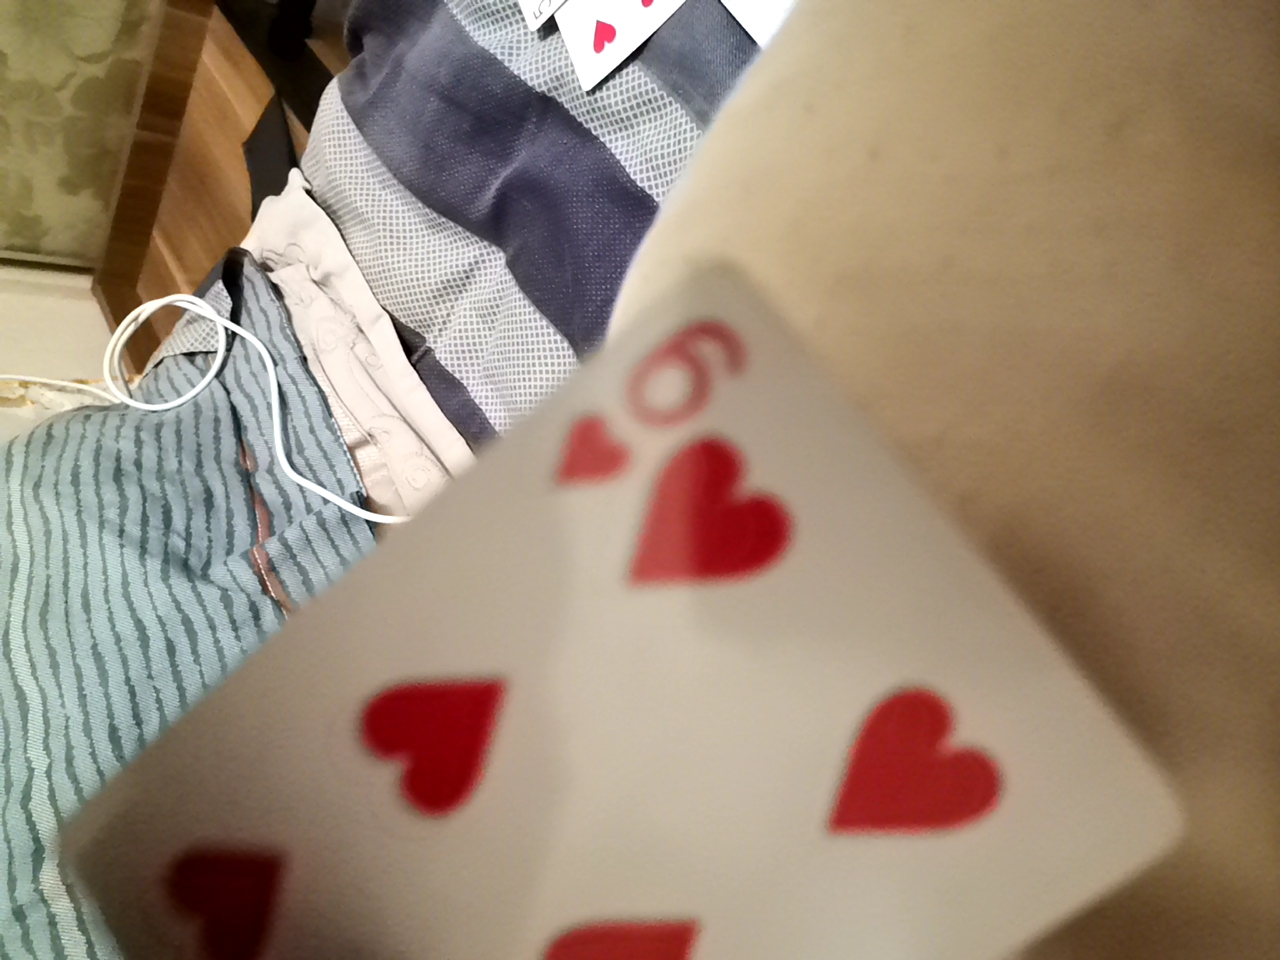hx 6: (108, 298, 1187, 949)
